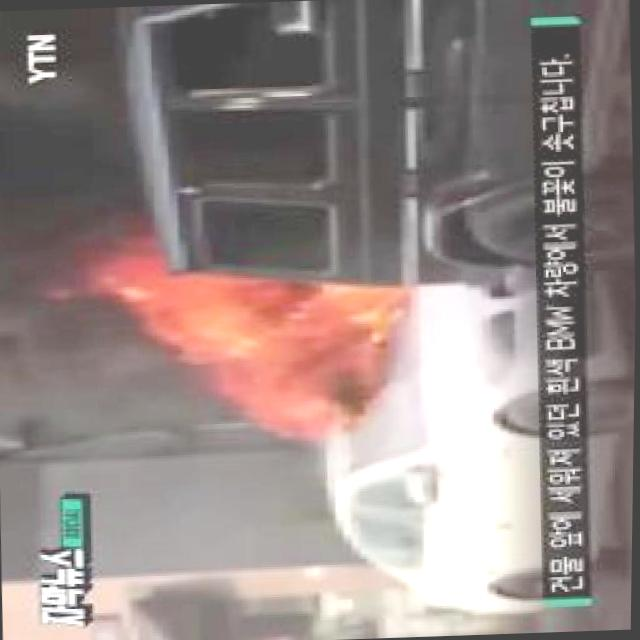Fire: (127, 238, 389, 436)
